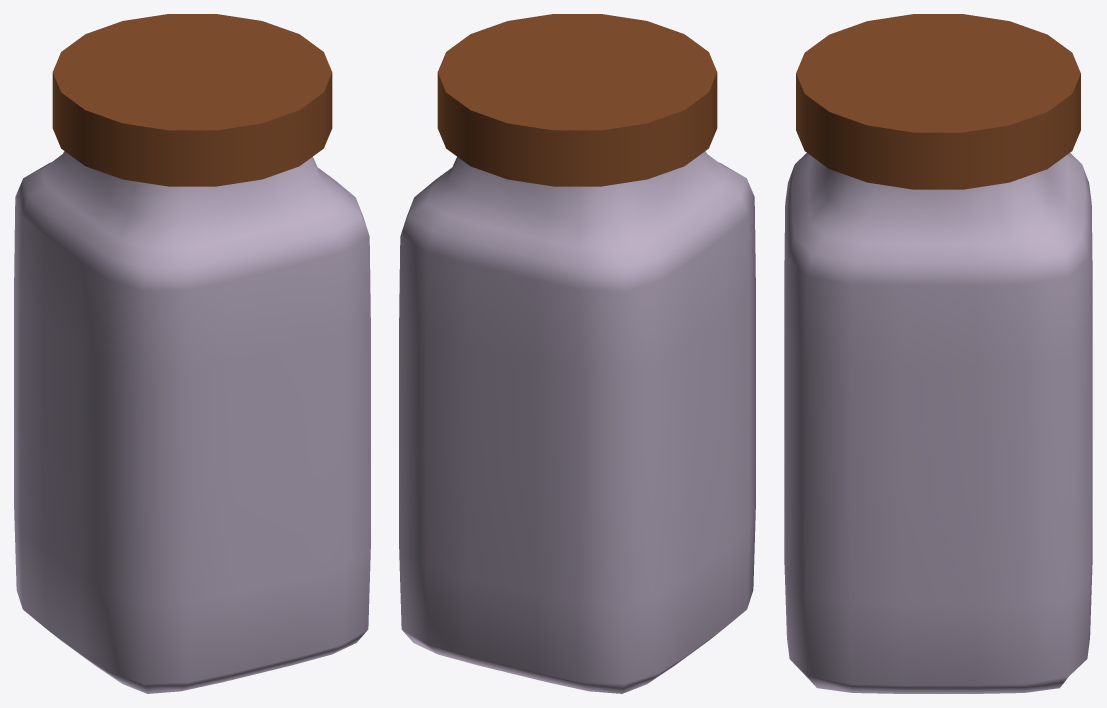
The model's file is SM_SpiceContainer.fbx.
3 renders of one model, left to right at view 1: azimuth 30°, elevation 25°; view 2: azimuth 150°, elevation 25°; view 3: azimuth 270°, elevation 25°, orthographic.
Visible parts, largest first — view 1: SM_SpiceContainer; view 2: SM_SpiceContainer; view 3: SM_SpiceContainer.
Boxes of the visible parts, x1,y1,x2,y2 form: SM_SpiceContainer: (14,14,370,693); SM_SpiceContainer: (399,14,755,693); SM_SpiceContainer: (784,14,1092,693).
Size of what is drawn, in the model's own units: 107 by 217 by 107.
